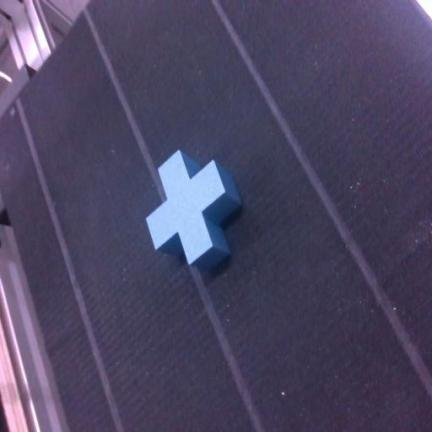cross: (146, 151, 241, 268)
